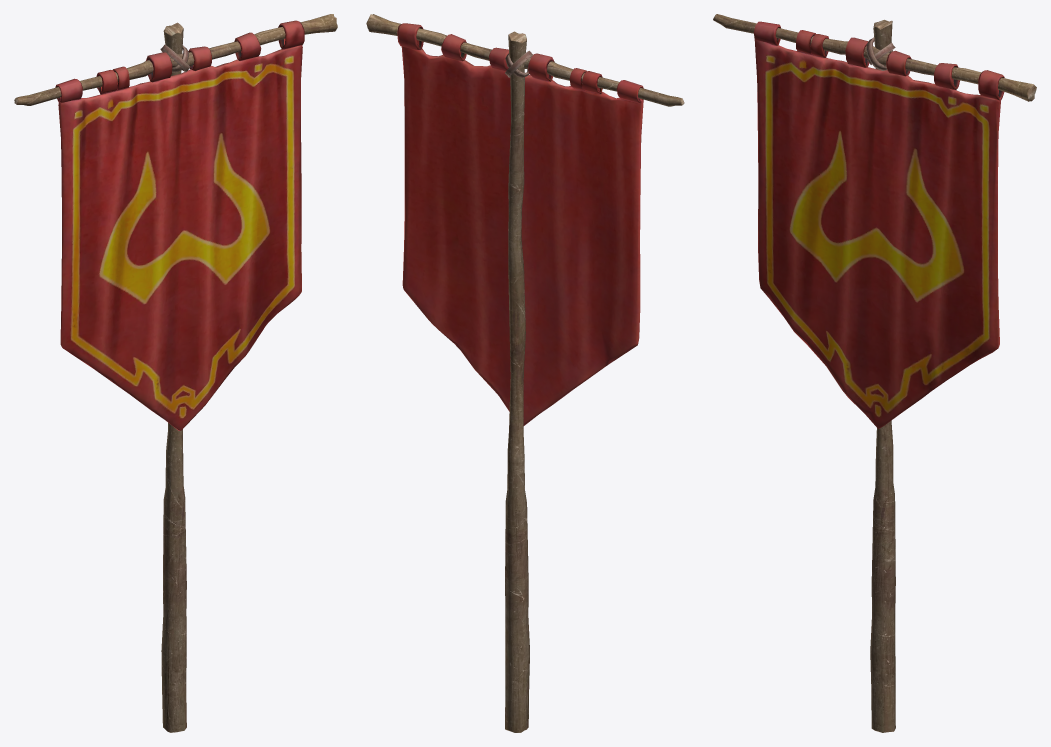
3 views of the same model, side by side, from view 1: azimuth 30°, elevation 25°; view 2: azimuth 150°, elevation 25°; view 3: azimuth 330°, elevation 25° (orthographic).
Parts seen in each view (by area): view 1: SM_Double_Banner_Zamorak_01v2_LOD0; view 2: SM_Double_Banner_Zamorak_01v2_LOD0; view 3: SM_Double_Banner_Zamorak_01v2_LOD0.
Boxes of the visible parts, box(x1,y1,x2,y2) form: SM_Double_Banner_Zamorak_01v2_LOD0: box(14, 14, 337, 732); SM_Double_Banner_Zamorak_01v2_LOD0: box(366, 14, 684, 732); SM_Double_Banner_Zamorak_01v2_LOD0: box(713, 14, 1036, 732).
Bounding box in the file's own units: 2.08 × 4.39 × 0.1861.
3 materials, 3 textured.
